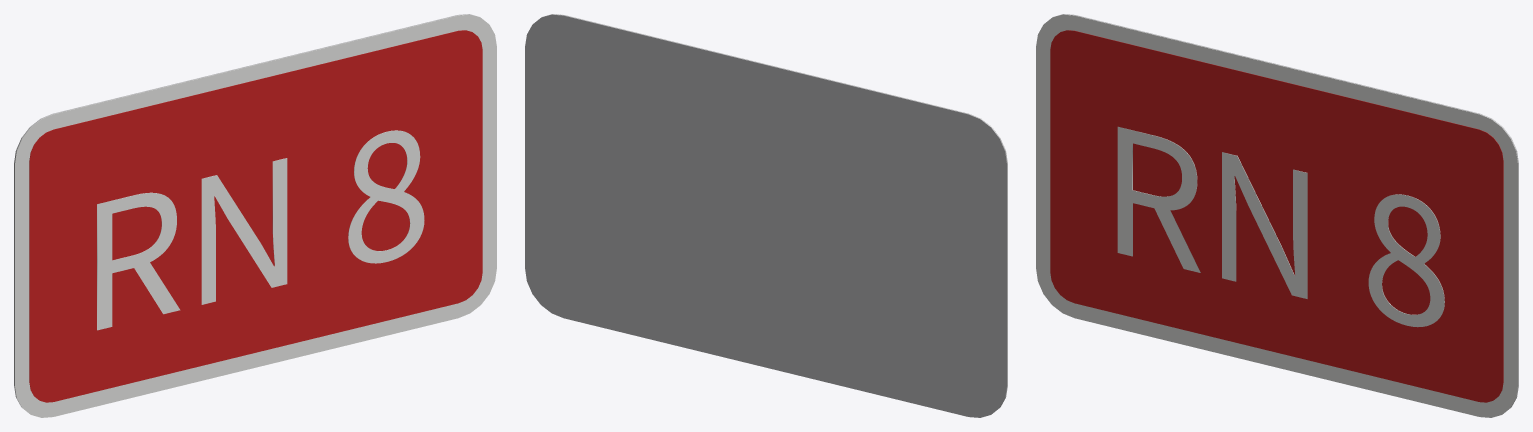
The picture shows the model from 3 angles, left to right: view 1: azimuth 30°, elevation 25°; view 2: azimuth 150°, elevation 25°; view 3: azimuth 330°, elevation 25°; orthographic projection.
Parts seen in each view (by area): view 1: E46_fond01, E46_cadre00, E46_txt02, E46_dos; view 2: E46_dos, E46_cadre00; view 3: E46_fond01, E46_cadre00, E46_txt02, E46_dos.
Boxes of the visible parts, bbox=[...] form: E46_fond01: bbox=[29, 30, 482, 402]; E46_cadre00: bbox=[14, 14, 496, 417]; E46_txt02: bbox=[97, 130, 424, 330]; E46_dos: bbox=[14, 14, 480, 407]; E46_dos: bbox=[525, 14, 1007, 417]; E46_cadre00: bbox=[545, 14, 1007, 403]; E46_fond01: bbox=[1050, 30, 1503, 402]; E46_cadre00: bbox=[1036, 14, 1518, 417]; E46_txt02: bbox=[1117, 126, 1444, 327]; E46_dos: bbox=[1052, 14, 1518, 407].
Bounding box in the file's own units: 0.5 × 0.3 × 0.0025.
